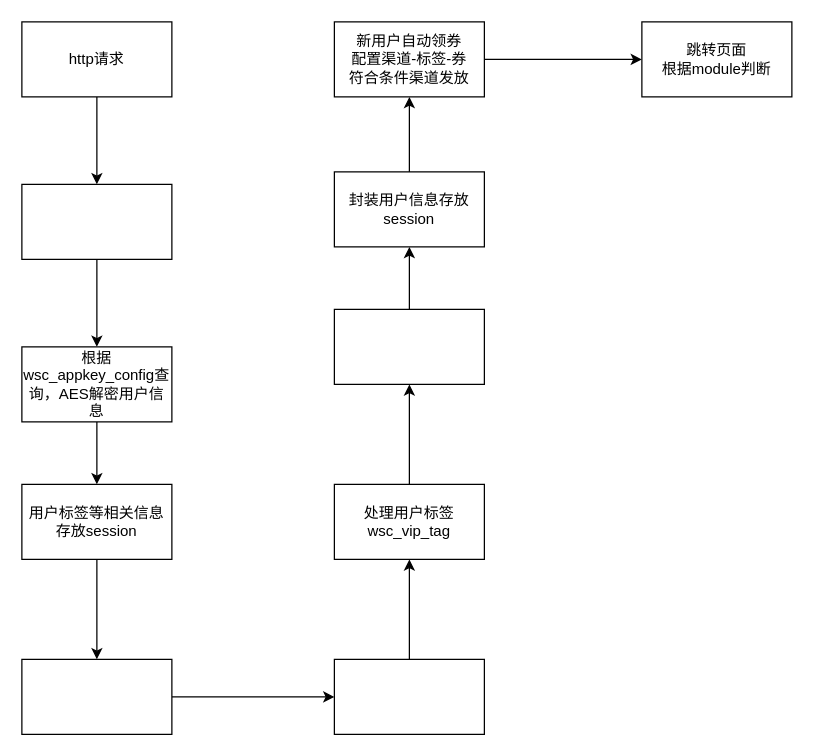
This 814x756 diagram has some shape labels left out. Here are the shapes that lost their labels. From the top down, the box of each, then its label:
(21, 183, 172, 259): 参数判断 及session存放数据
(333, 308, 484, 384): 处理用药人信息 wsc_vip_patient插入或是更新
(21, 658, 172, 734): 查询vip_user_info插入ot更新
(333, 658, 484, 734): 查询用户等级wsc_vip_level更新vip账户信息和vip用户信息
